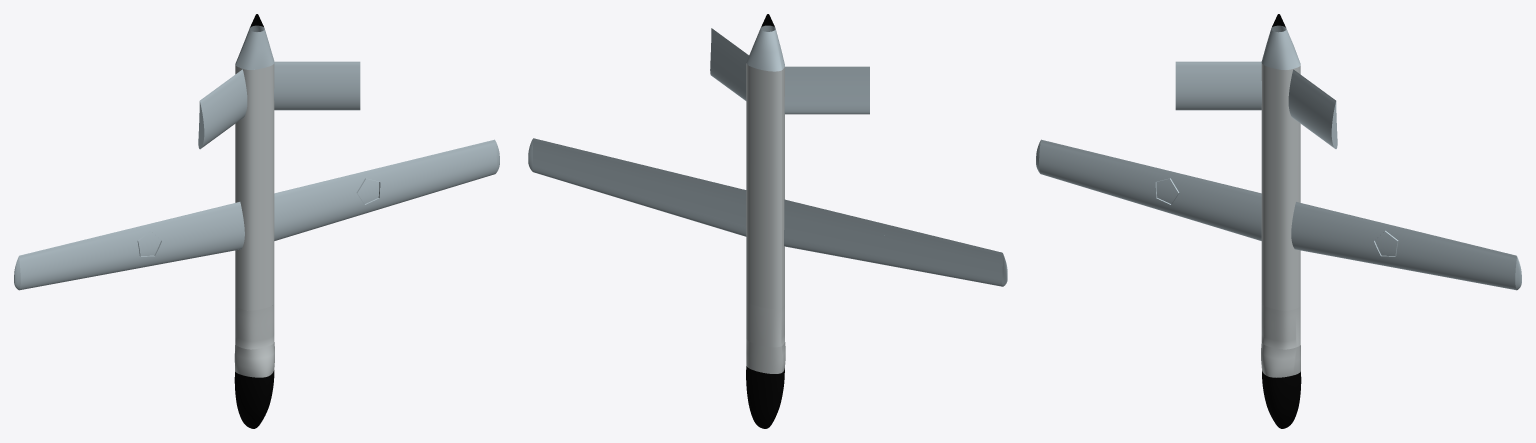
Rendered from uav-v2.glb.
3 renders of one model, left to right at view 1: azimuth 30°, elevation 25°; view 2: azimuth 150°, elevation 25°; view 3: azimuth 330°, elevation 25°, orthographic.
Visible parts, largest first — view 1: UAV_aaravv2.prt; view 2: UAV_aaravv2.prt; view 3: UAV_aaravv2.prt.
Boxes of the visible parts, bbox=[...] form: UAV_aaravv2.prt: bbox=[14, 14, 499, 428]; UAV_aaravv2.prt: bbox=[528, 14, 1007, 428]; UAV_aaravv2.prt: bbox=[1036, 14, 1521, 428].
Bounding box in the file's own units: 13.3 × 10.91 × 1.62.
